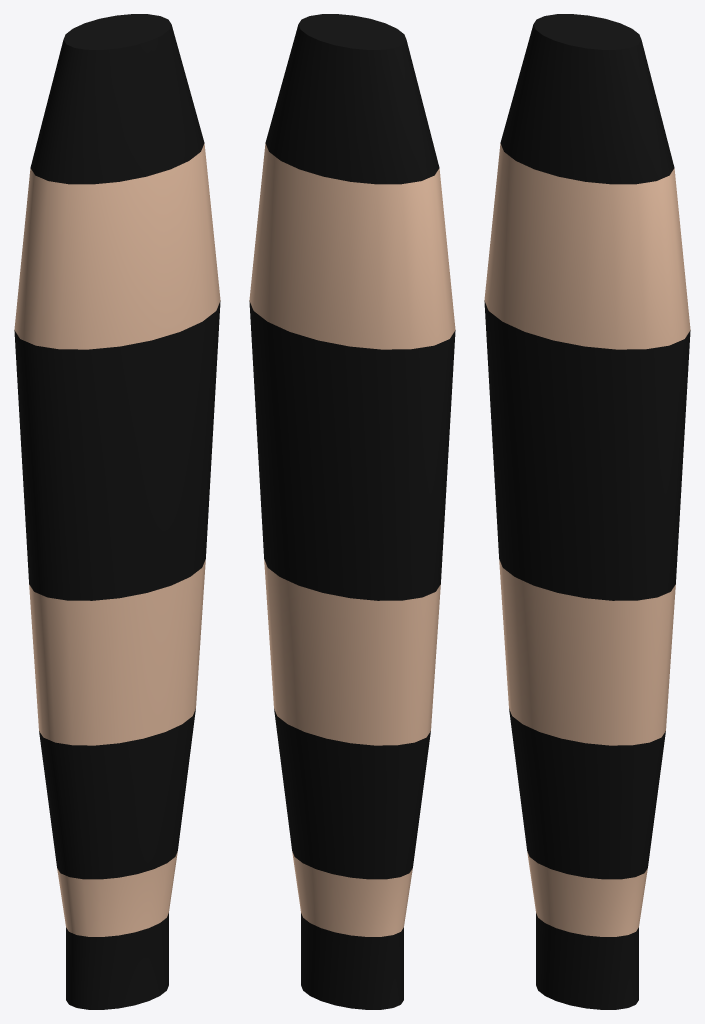
The model's file is Racoon Tail Model.FBX.
3 renders of one model, left to right at view 1: azimuth 30°, elevation 25°; view 2: azimuth 150°, elevation 25°; view 3: azimuth 330°, elevation 25°, orthographic.
Visible parts, largest first — view 1: Cylinder001; view 2: Cylinder001; view 3: Cylinder001.
Part boxes in pixels (x1,y1,x2,y2): Cylinder001: [14, 14, 220, 1009]; Cylinder001: [249, 14, 455, 1009]; Cylinder001: [484, 14, 690, 1009].
Bounding box in the file's own units: 2.46 × 11.6 × 1.5.
